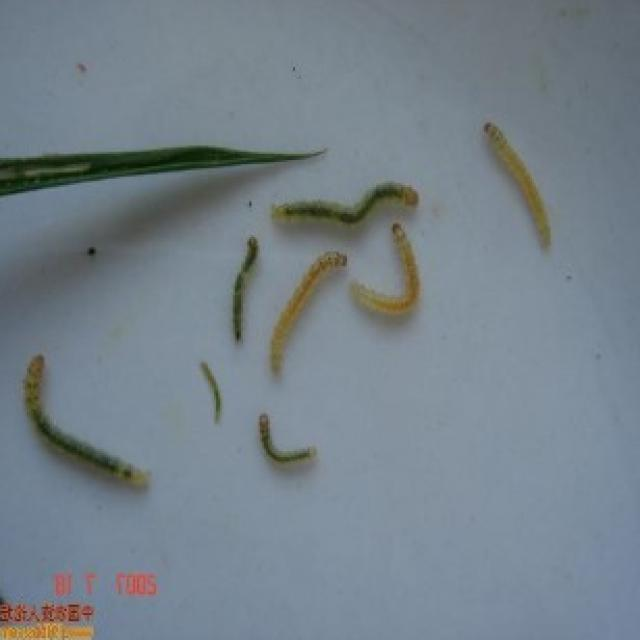rice leaf roller: (25, 355, 145, 484), (272, 251, 347, 372), (486, 123, 551, 245), (353, 222, 420, 316), (274, 183, 418, 224), (260, 414, 316, 463), (235, 237, 260, 341), (204, 362, 220, 420)
